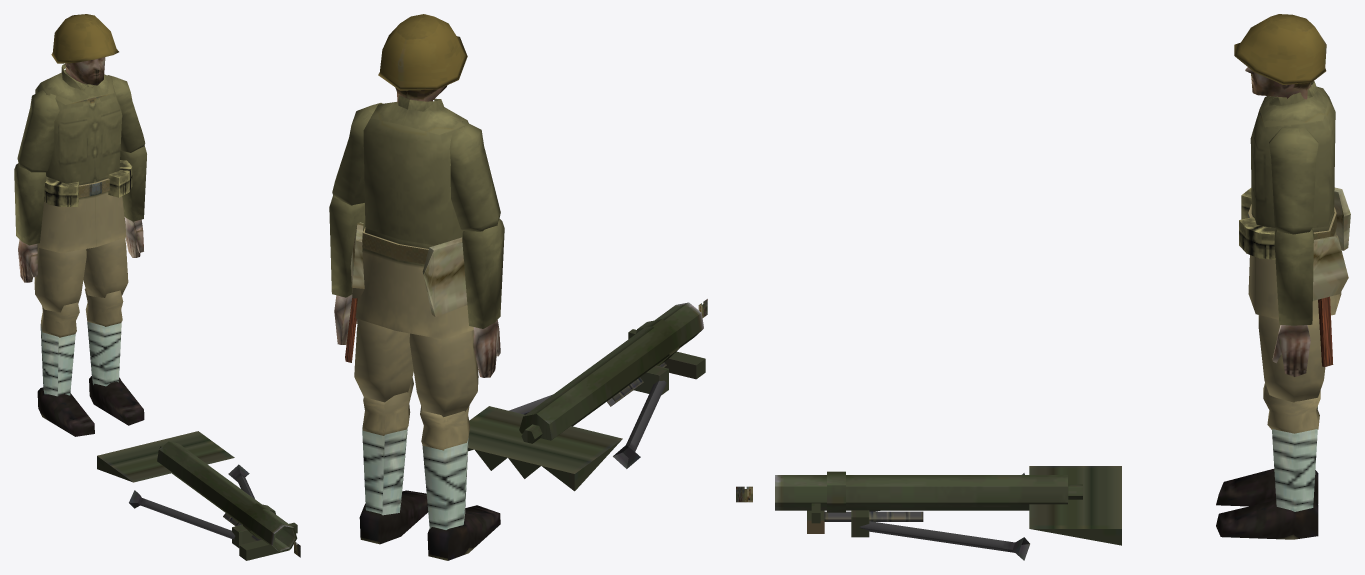
The model's file is esrmortar.dae.
The picture shows the model from 3 angles, left to right: view 1: azimuth 30°, elevation 25°; view 2: azimuth 150°, elevation 25°; view 3: azimuth 270°, elevation 25°; orthographic projection. The views are drawn at different scales.
Parts seen in each view (by area): view 1: torso, mortartube, head, mortarbase, lleg, rleg, rloarm, rthigh, mortarstand, ruparm, lthigh, lloarm (+3 smaller); view 2: torso, mortartube, mortarbase, head, lleg, rleg, rloarm, rthigh, ruparm, lthigh, mortarstand, lloarm (+3 smaller); view 3: torso, mortartube, head, mortarbase, lleg, lloarm, luparm, mortarstand, lthigh, lfoot, rfoot.
Part boxes in pixels (left/top/right/bottom): torso: left=35, top=64, right=132, bottom=253; mortartube: left=157, top=441, right=297, bottom=552; head: left=51, top=14, right=118, bottom=85; mortarbase: left=97, top=431, right=234, bottom=482; lleg: left=84, top=288, right=123, bottom=386; rleg: left=40, top=302, right=79, bottom=396; rloarm: left=14, top=163, right=46, bottom=282; rthigh: left=34, top=247, right=86, bottom=312; mortarstand: left=129, top=464, right=297, bottom=560; ruparm: left=17, top=90, right=59, bottom=172; lthigh: left=83, top=237, right=128, bottom=297; lloarm: left=120, top=145, right=146, bottom=257; torso: left=345, top=95, right=473, bottom=362; mortartube: left=519, top=302, right=703, bottom=443; mortarbase: left=468, top=406, right=622, bottom=491; head: left=378, top=14, right=467, bottom=102; lleg: left=362, top=377, right=413, bottom=515; rleg: left=420, top=405, right=469, bottom=529; rloarm: left=462, top=219, right=504, bottom=377; rthigh: left=409, top=330, right=478, bottom=417; ruparm: left=449, top=121, right=500, bottom=231; lthigh: left=354, top=319, right=413, bottom=402; mortarstand: left=509, top=329, right=705, bottom=468; lloarm: left=329, top=195, right=365, bottom=344; torso: left=1239, top=81, right=1350, bottom=367; mortartube: left=775, top=471, right=1082, bottom=512; head: left=1234, top=14, right=1326, bottom=99; mortarbase: left=1029, top=466, right=1121, bottom=545; lleg: left=1263, top=383, right=1320, bottom=511; lloarm: left=1272, top=227, right=1313, bottom=376; luparm: left=1269, top=127, right=1318, bottom=234; mortarstand: left=807, top=473, right=1029, bottom=560; lthigh: left=1258, top=315, right=1325, bottom=402; lfoot: left=1216, top=500, right=1318, bottom=539; rfoot: left=1216, top=469, right=1318, bottom=506.
Bounding box in the file's own units: 4.74 × 15.89 × 14.55.
1 material, 1 textured.
